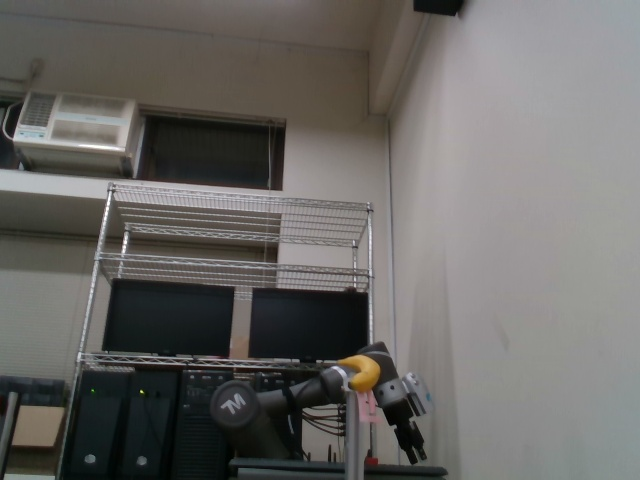banana: (333, 352, 382, 394)
